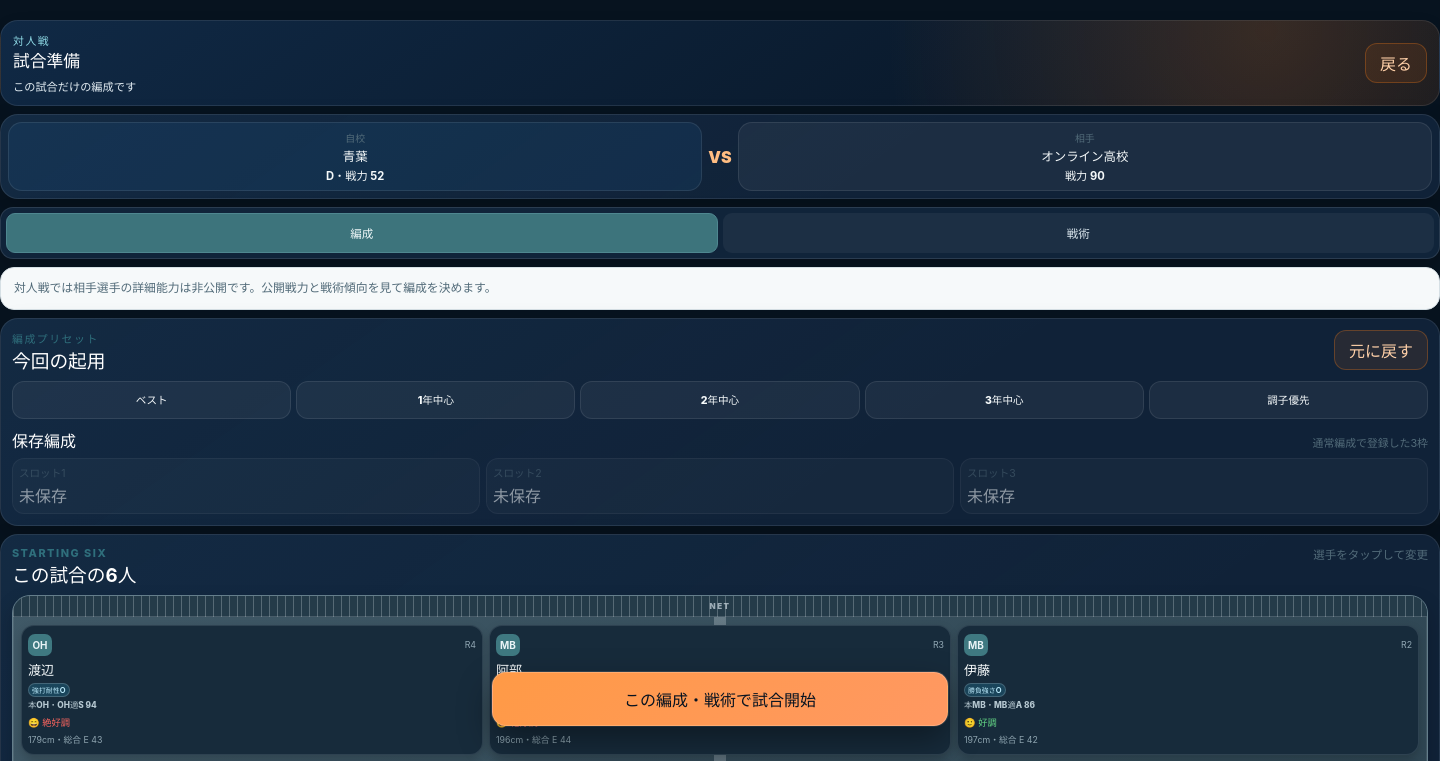
PreMatchLineupScreen › does not expose full opponent analysis in PvP
The image size is (1440, 761).
Click the button "戦術" at (1078,233), box [722, 213, 1434, 253]
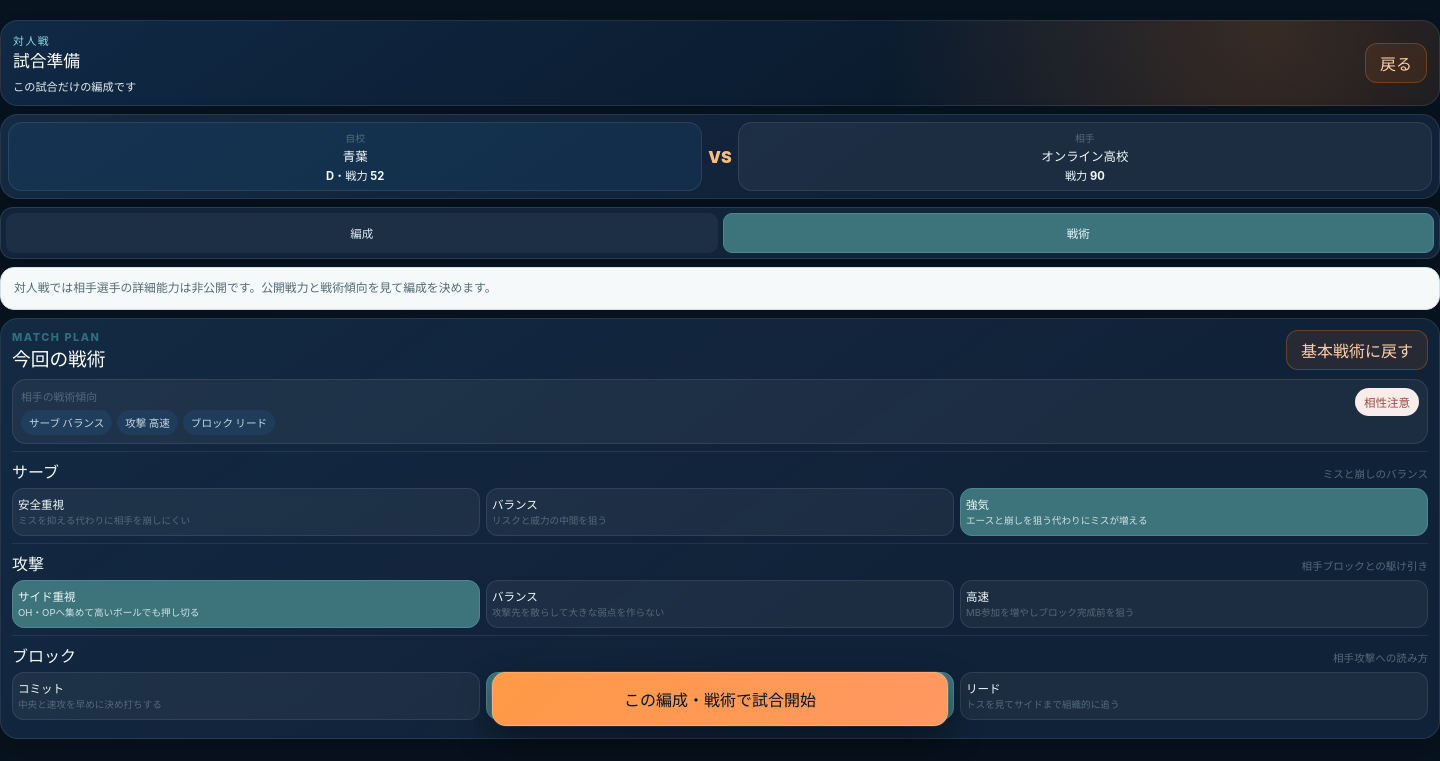
Expected: the text "攻撃 高速" is shown, [117, 410, 178, 435]
